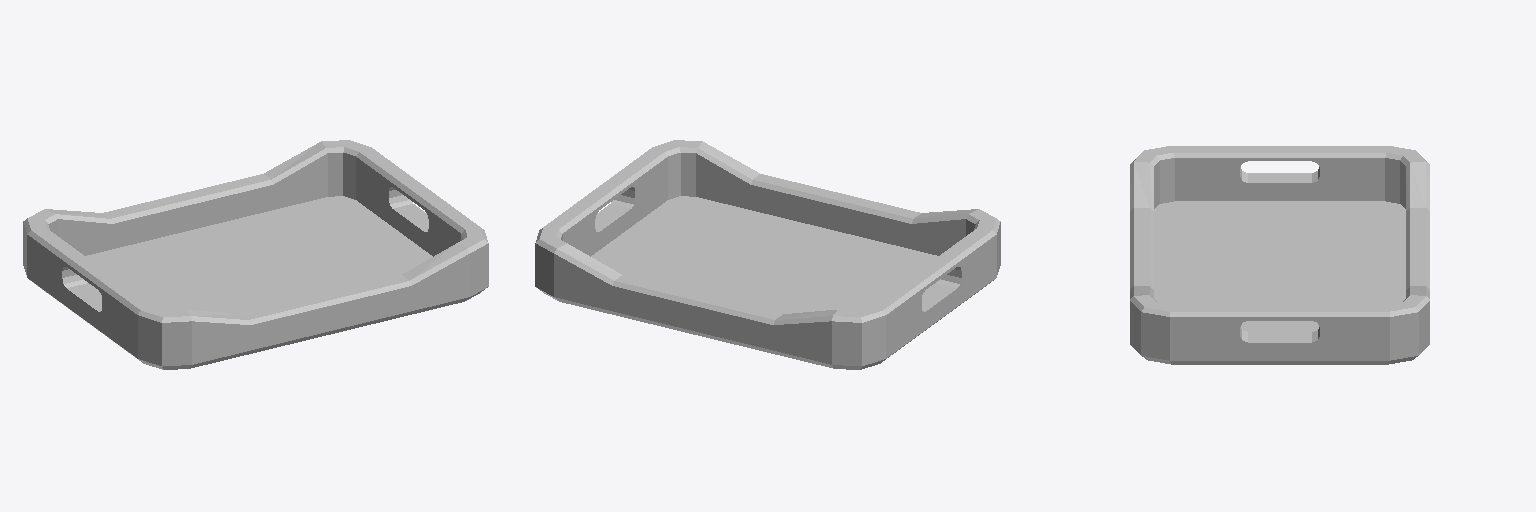
The model's file is serving_tray_square_B.obj.
3 renders of one model, left to right at view 1: azimuth 30°, elevation 25°; view 2: azimuth 150°, elevation 25°; view 3: azimuth 270°, elevation 25°, orthographic.
Parts seen in each view (by area): view 1: serving_tray_square_B; view 2: serving_tray_square_B; view 3: serving_tray_square_B.
Part boxes in pixels (x1,y1,x2,y2): serving_tray_square_B: (23,140,488,369); serving_tray_square_B: (535,140,1000,369); serving_tray_square_B: (1130,146,1429,364).
Size of the model in its own units: 1 by 0.15 by 0.75.